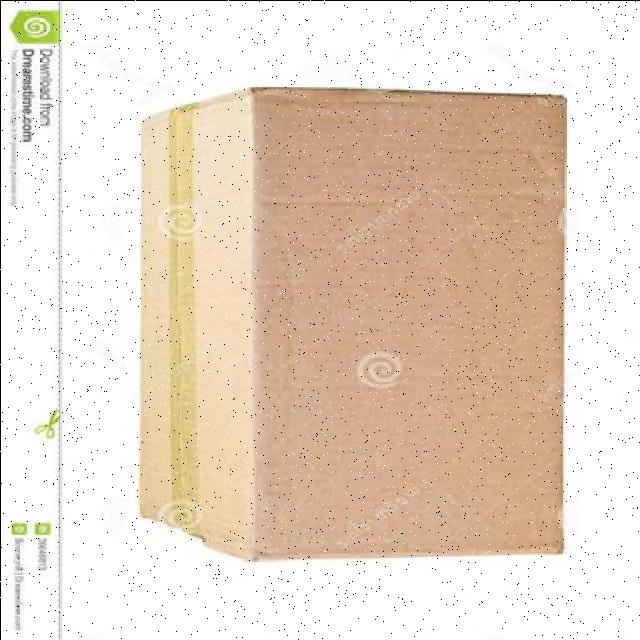normal: (125, 82, 580, 566)
